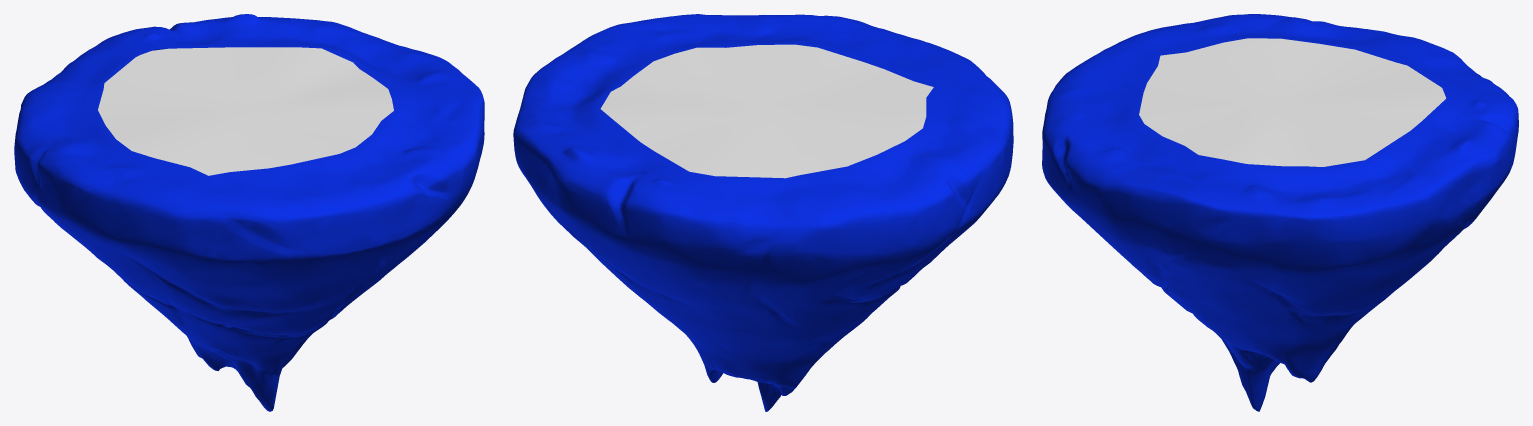
File: IleSpawn_Low.fbx
The picture shows the model from 3 angles, left to right: view 1: azimuth 30°, elevation 25°; view 2: azimuth 150°, elevation 25°; view 3: azimuth 270°, elevation 25°; orthographic projection. The views are drawn at different scales.
Parts seen in each view (by area): view 1: Retopo_Cylinder.005, Retopo_Cylinder.002; view 2: Retopo_Cylinder.005, Retopo_Cylinder.002; view 3: Retopo_Cylinder.005, Retopo_Cylinder.002.
Part boxes in pixels (x1,y1,x2,y2): Retopo_Cylinder.005: (14, 14, 484, 411); Retopo_Cylinder.002: (98, 47, 393, 175); Retopo_Cylinder.005: (513, 14, 1013, 411); Retopo_Cylinder.002: (600, 44, 933, 178); Retopo_Cylinder.005: (1042, 14, 1518, 411); Retopo_Cylinder.002: (1139, 38, 1445, 166).
Bounding box in the file's own units: 7472 × 5289 × 7439.
